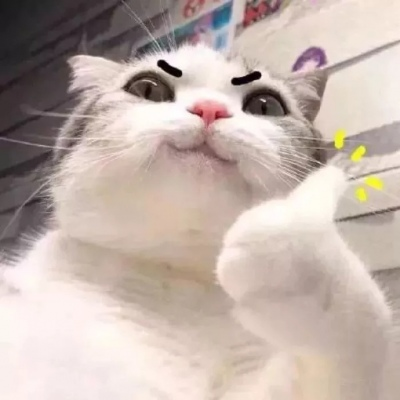cat: (57, 45, 348, 264)
